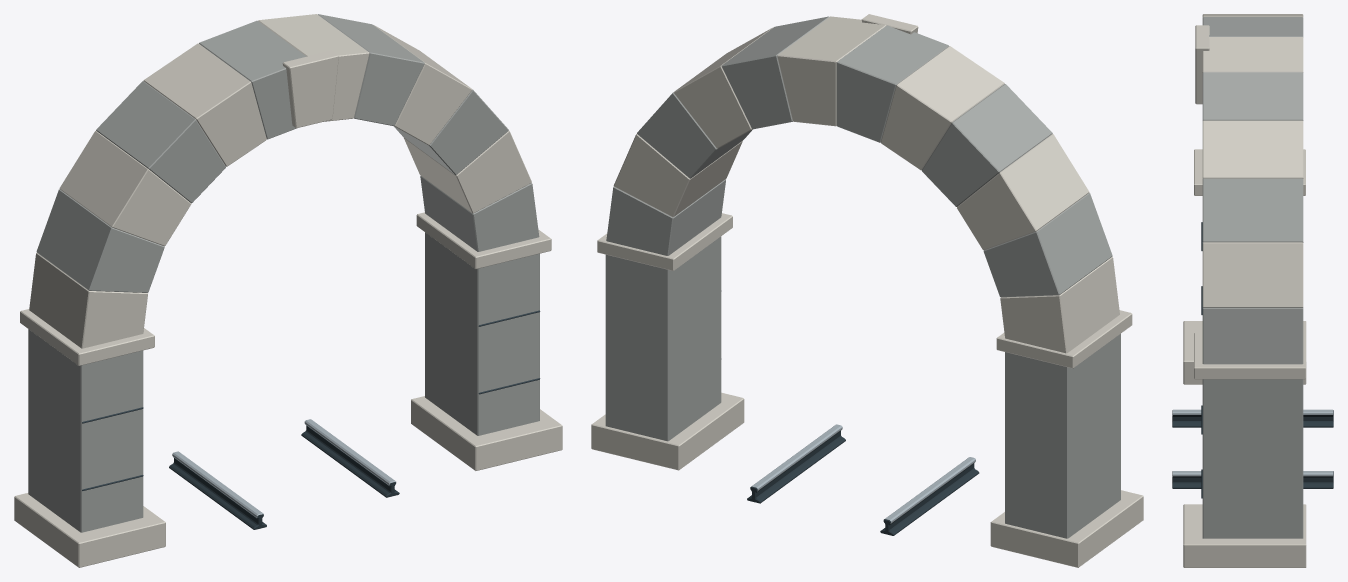
File: b13_streetcar_cut_stone_tunnel_portal.glb
3 views of the same model, side by side, from view 1: azimuth 30°, elevation 25°; view 2: azimuth 150°, elevation 25°; view 3: azimuth 270°, elevation 25° (orthographic). The views are drawn at different scales.
Visible parts, largest first — view 1: b13_streetcar_cut_stone_tunnel_portal; view 2: b13_streetcar_cut_stone_tunnel_portal; view 3: b13_streetcar_cut_stone_tunnel_portal.
Boxes of the visible parts, x1,y1,x2,y2 form: b13_streetcar_cut_stone_tunnel_portal: [14, 14, 562, 567]; b13_streetcar_cut_stone_tunnel_portal: [591, 14, 1143, 567]; b13_streetcar_cut_stone_tunnel_portal: [1172, 14, 1333, 567].
Bounding box in the file's own units: 5.25 × 4.59 × 1.6.
